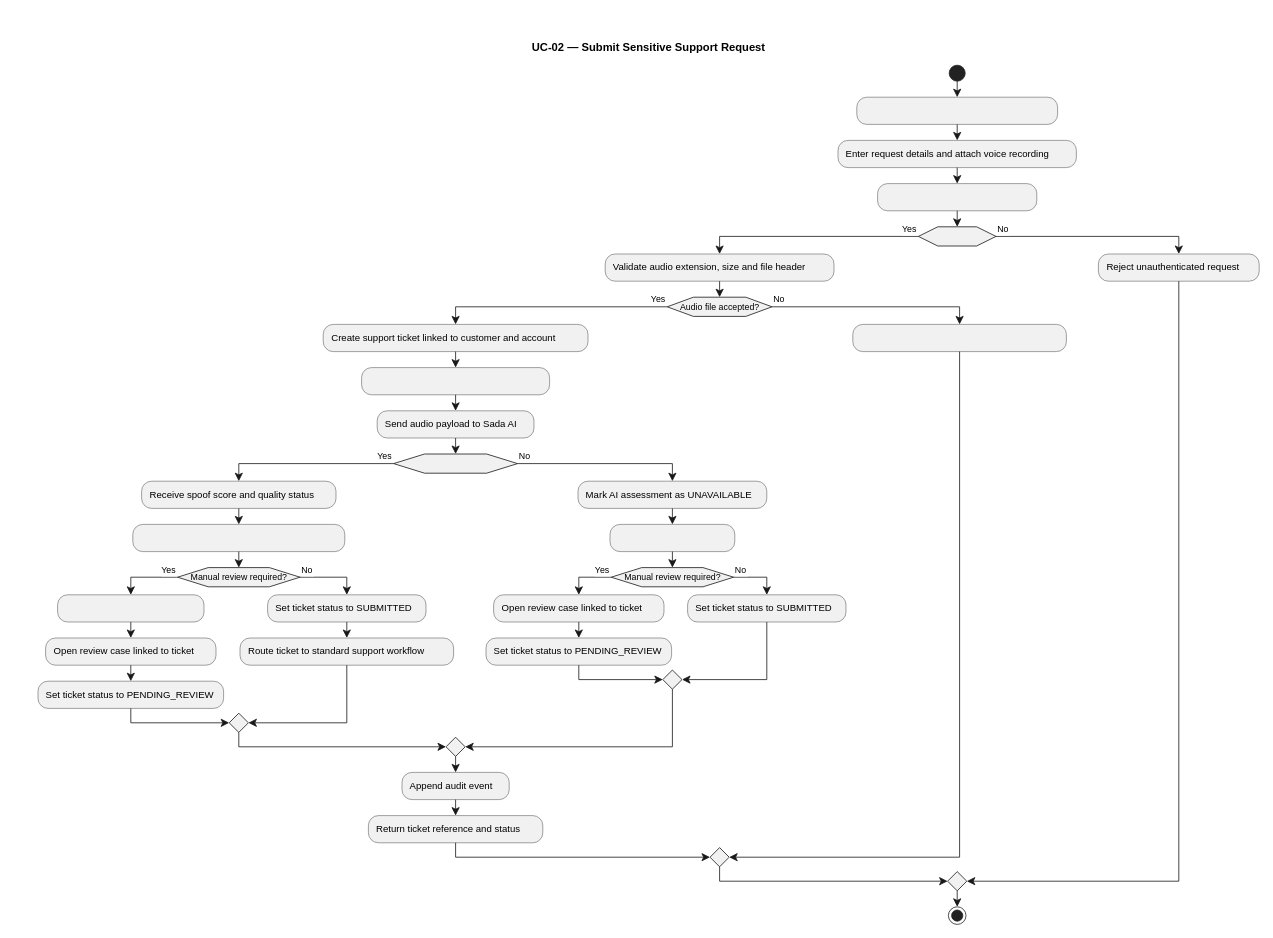
Image size: 1273x938. Some labels were removed from this diagram. Each missing label, with the centre of its shape:
"AI assessment available?" goes at point 455,463.
"Apply non-AI risk rules" goes at point 672,537.
"Authenticate customer session" goes at point 957,197.
"Customer selects sensitive request type" goes at point 956,110.
"Evaluate result using platform Risk Engine" goes at point 238,537.
"Reject unsupported or oversized audio file" goes at point 959,337.
"Session valid?" goes at point 957,236.
"Store encrypted retained review copy" goes at point 455,381.
"Suspend sensitive operation" goes at point 130,608.
